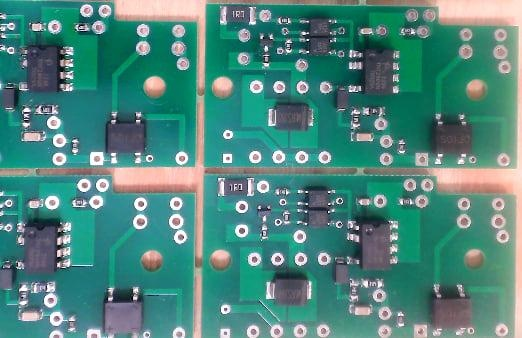chip-capacitor: (17, 308, 44, 322), (20, 130, 47, 142), (349, 304, 373, 316), (350, 132, 375, 142), (28, 21, 47, 32), (357, 26, 375, 37), (26, 199, 44, 209), (356, 197, 373, 206)
chip-resistor: (215, 176, 256, 198), (219, 5, 257, 26), (31, 279, 57, 294), (349, 105, 362, 132), (18, 281, 30, 308), (20, 104, 32, 130), (348, 277, 360, 303), (34, 104, 61, 115), (360, 277, 385, 288), (362, 105, 386, 116), (70, 196, 89, 209), (67, 314, 78, 334), (395, 310, 406, 329), (72, 22, 90, 33), (397, 197, 415, 208), (272, 187, 291, 197), (71, 136, 80, 156), (397, 137, 406, 155), (400, 27, 417, 36), (277, 16, 293, 25), (262, 53, 271, 69), (282, 209, 291, 225), (285, 38, 293, 55), (260, 224, 268, 240)
diode: (265, 276, 314, 308), (267, 102, 315, 132), (1, 81, 17, 113), (333, 255, 349, 284), (0, 259, 14, 291), (336, 85, 349, 113)
ic: (15, 220, 74, 275), (17, 44, 76, 95), (346, 219, 400, 271), (347, 48, 401, 96), (430, 280, 471, 337), (105, 110, 147, 165), (431, 111, 473, 166), (102, 285, 143, 338), (296, 188, 336, 208), (296, 208, 336, 228), (299, 17, 338, 37), (299, 37, 338, 56)
transistor: (256, 203, 272, 223), (259, 33, 274, 53)
